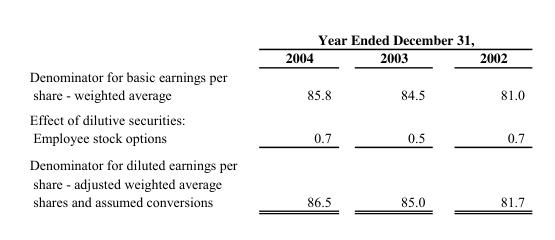table: (28, 29, 524, 208)
table column: (28, 29, 260, 208), (355, 29, 451, 208), (260, 29, 355, 208), (451, 29, 524, 208)
table column header: (28, 29, 524, 67)
table projected row header: (28, 106, 524, 128)
table row: (28, 150, 524, 208), (28, 67, 524, 106), (28, 106, 524, 128), (28, 128, 524, 150), (28, 29, 524, 48), (28, 48, 524, 67)
table spanning cell: (260, 29, 524, 48)
